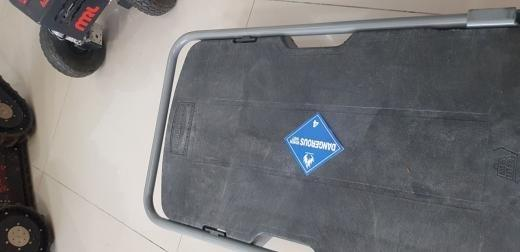dangerous-when-wet: (283, 111, 346, 179)
